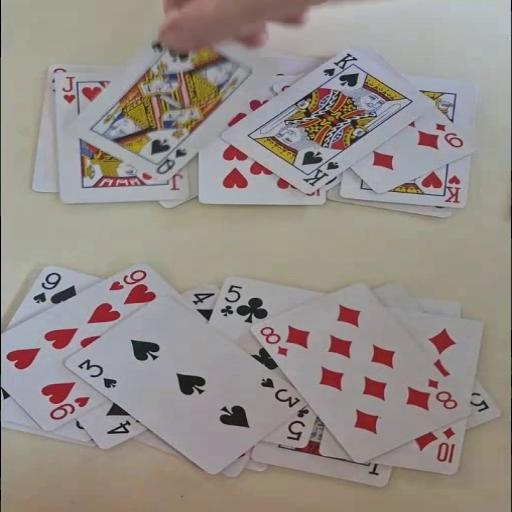10: (434, 431, 458, 464)
3: (256, 375, 302, 408), (74, 357, 119, 389)
4: (104, 418, 132, 435)
5: (217, 282, 244, 317), (286, 406, 311, 442)
8: (425, 376, 460, 410), (257, 324, 290, 357)
9: (45, 394, 92, 422), (29, 270, 63, 304), (105, 267, 149, 292), (432, 121, 466, 149)
J: (59, 76, 76, 104)
K: (299, 159, 341, 187), (320, 50, 359, 78), (442, 173, 463, 204)
Q: (154, 146, 189, 175)
